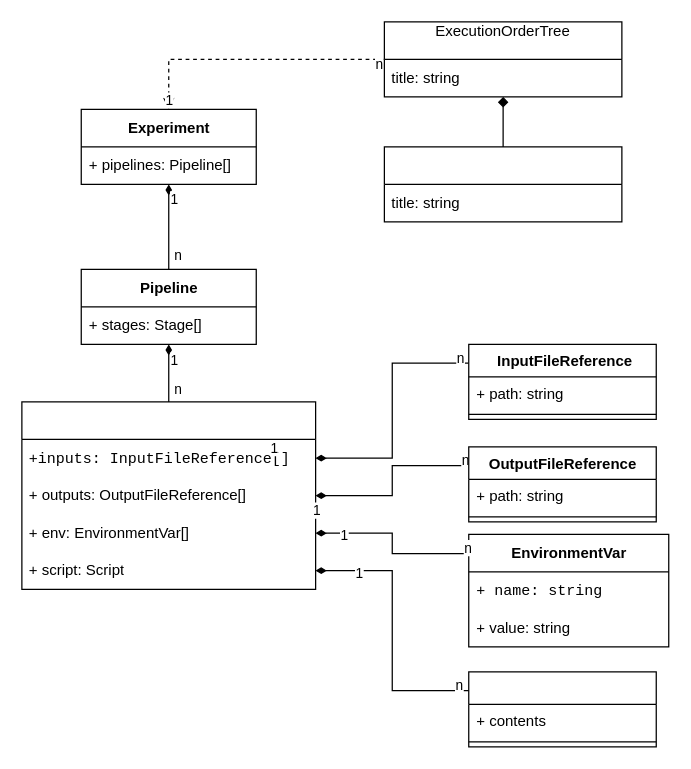
Some shapes in this 691 by 769 pixel diagram are drawn without their labels. Each missing label, with the box of its shape:
ExecutionOrderNode: (383, 146, 622, 222)
Script: (468, 671, 656, 747)
Stage: (21, 401, 316, 589)
